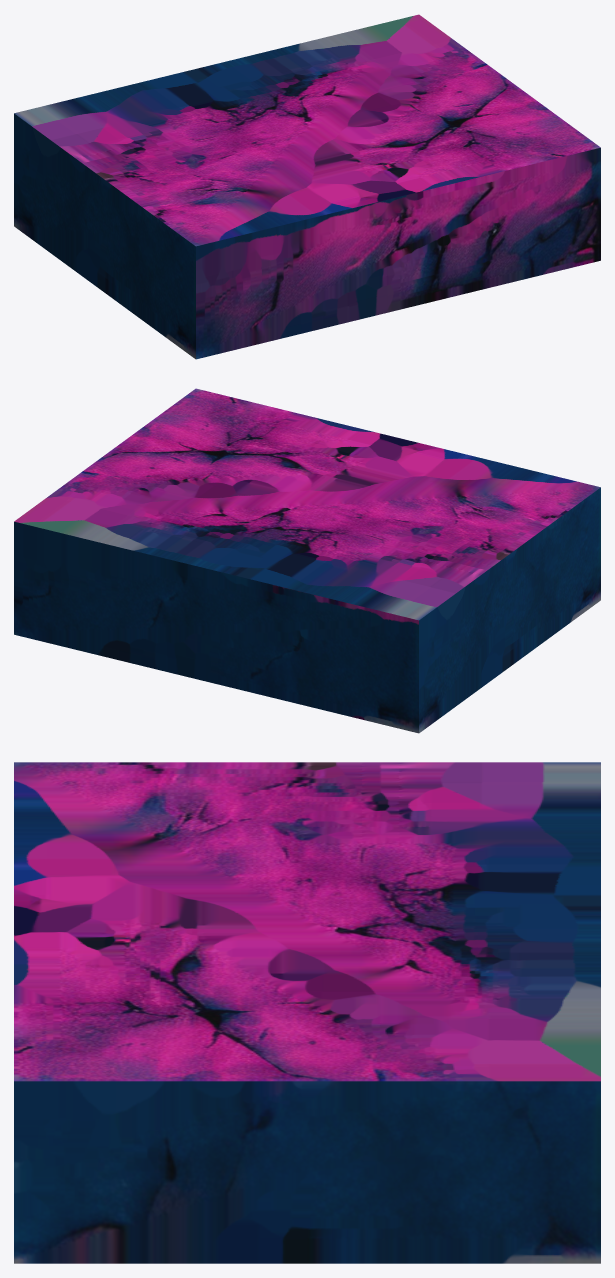
The model's file is shore-stone-1-texture-wrap-2026-05-15T02-05-55-608Z.glb.
3 renders of one model, top to bottom at view 1: azimuth 30°, elevation 25°; view 2: azimuth 150°, elevation 25°; view 3: azimuth 270°, elevation 25°, orthographic. The views are drawn at different scales.
Visible parts, largest first — view 1: GLTF; view 2: GLTF; view 3: GLTF.
Boxes of the visible parts, x1,y1,x2,y2 form: GLTF: (14, 14, 600, 359); GLTF: (14, 388, 600, 733); GLTF: (14, 762, 600, 1263).
Bounding box in the file's own units: 12.39 × 3.31 × 9.64.
Materials: 1 (1 with a texture image).
